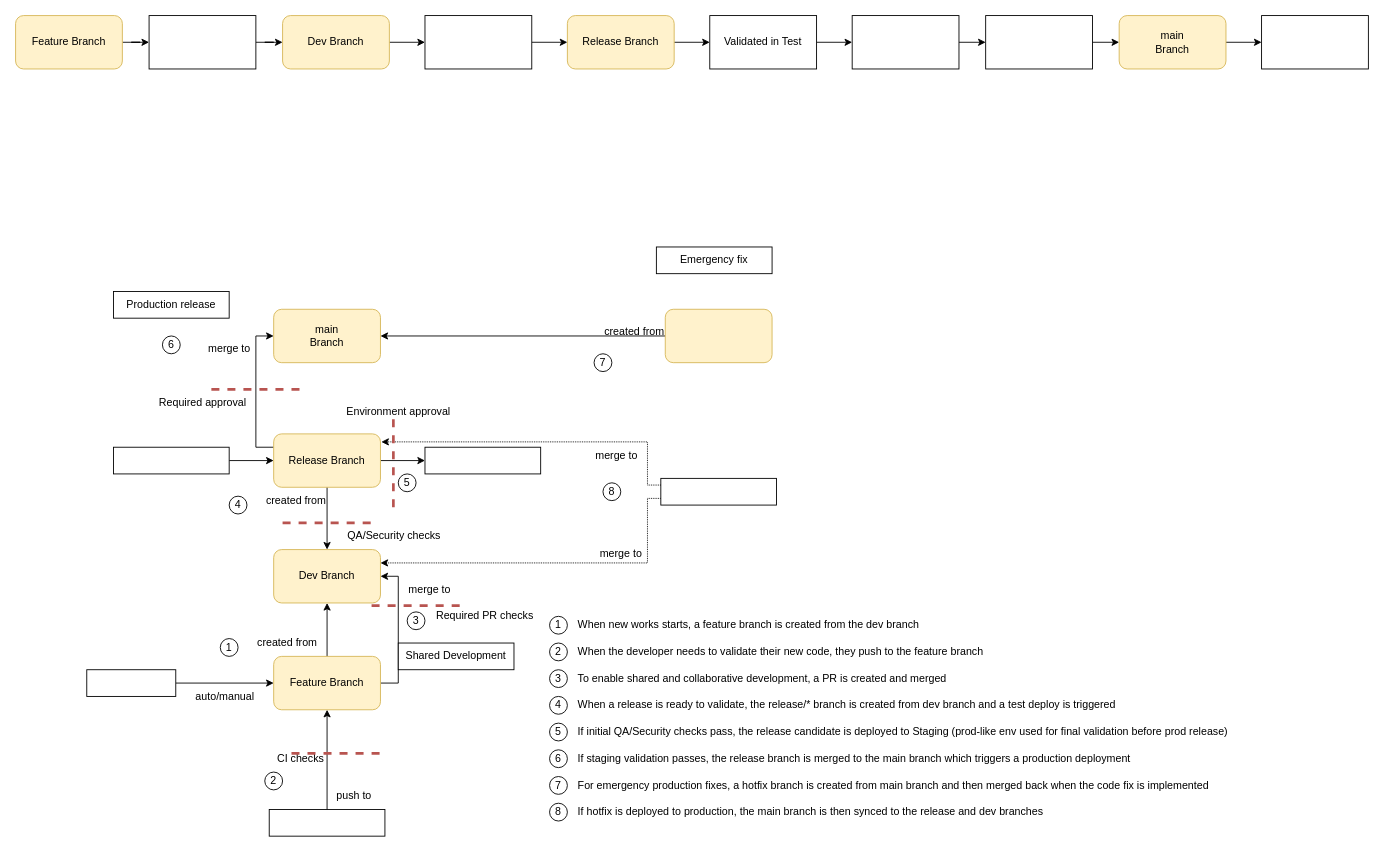
Some shapes in this 1384 by 852 pixel diagram are drawn without their labels. Each missing label, with the box of its shape:
Approval Gate: (985, 15, 1092, 69)
Developer Validation: (268, 809, 385, 836)
hotfix Branch: (664, 308, 772, 363)
New Work Starts: (86, 669, 176, 696)
Production Deployment: (1261, 15, 1368, 69)
Production rehearsal: (424, 446, 541, 474)
Promote Release Candidate: (424, 15, 532, 69)
Pull Request (PR): (148, 15, 256, 69)
Release candidate: (113, 446, 229, 474)
Staging Deployment: (851, 15, 959, 69)
Sync after hotfix: (660, 477, 777, 505)
